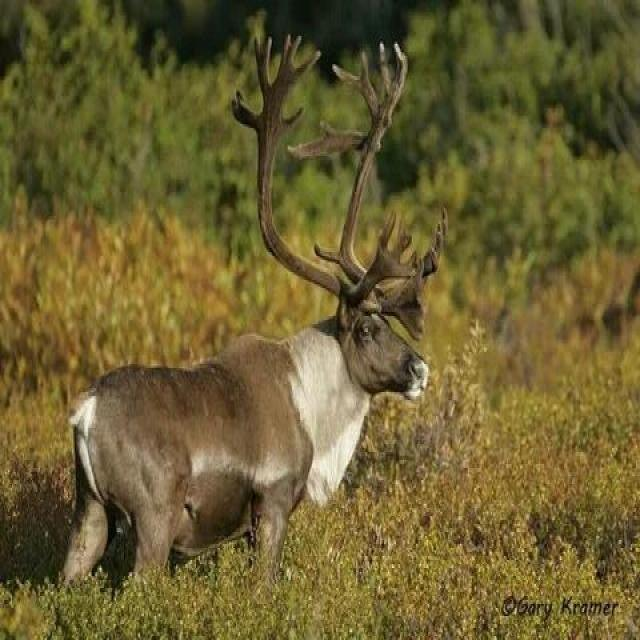deer: (19, 17, 488, 598)
